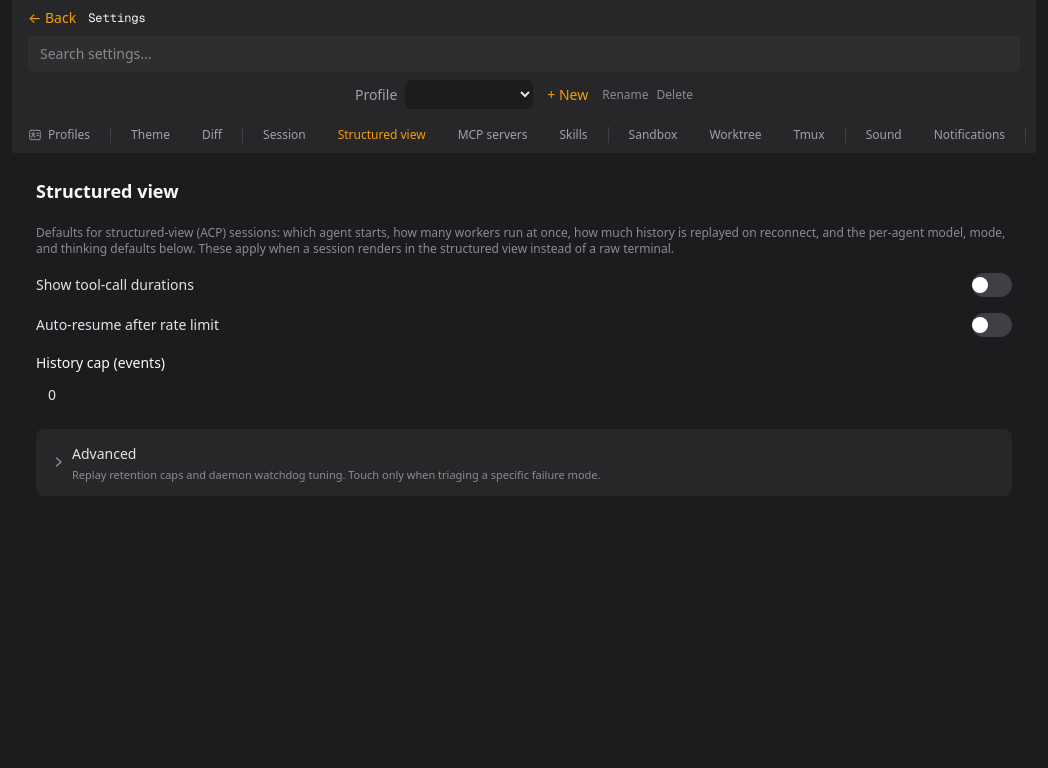
Test case: Settings Advanced fold › keeps an expanded fold open when the initial profile resolves
Expected: the text "Show tool-call durations" is shown, x1=36 y1=275 x2=194 y2=295
Click the button that starts with "Advanced" at (104, 454), box x1=36 y1=429 x2=1012 y2=496
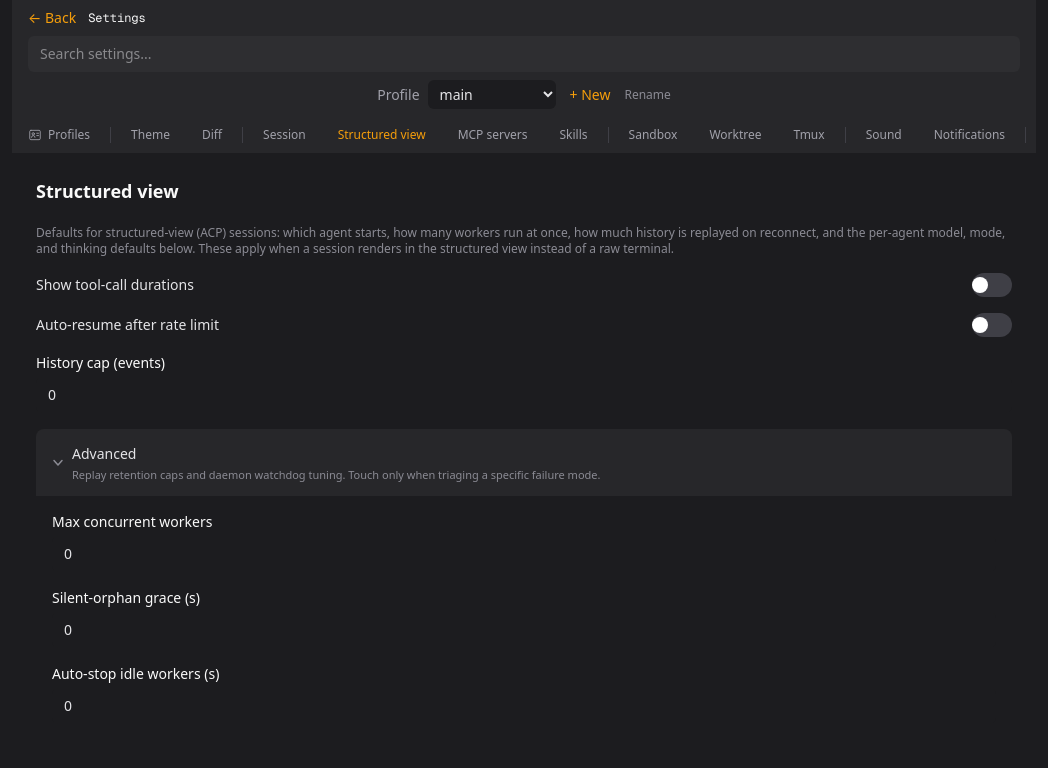
Expected: the text "Silent-orphan grace (s)" is shown, x1=52 y1=588 x2=200 y2=606
